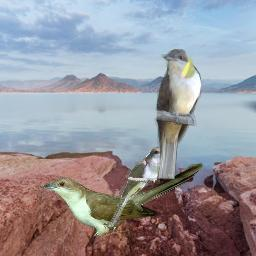Cuckoo: (41, 162, 203, 236), (154, 49, 201, 179), (108, 147, 167, 227)
